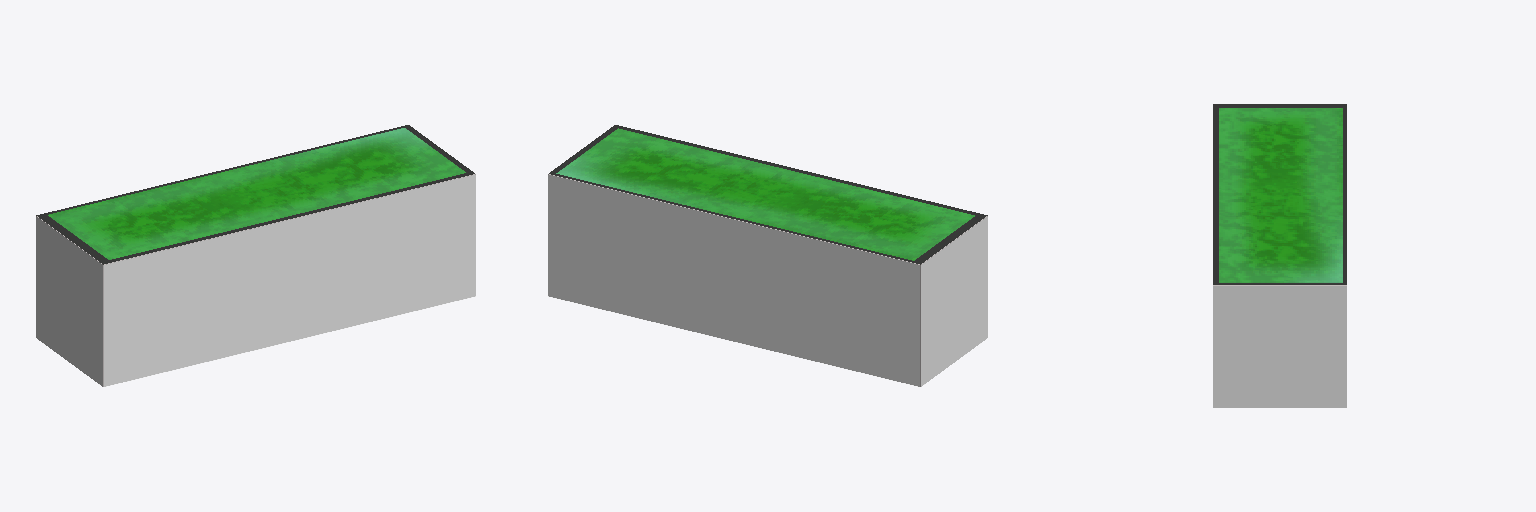
3 renders of one model, left to right at view 1: azimuth 30°, elevation 25°; view 2: azimuth 150°, elevation 25°; view 3: azimuth 270°, elevation 25°, orthographic.
Visible parts, largest first — view 1: Hydroponic5, Hydroponic7, Hydroponic3; view 2: Hydroponic6, Hydroponic7, Hydroponic3; view 3: Hydroponic7, Hydroponic4.
Part boxes in pixels (bbox=[...]): Hydroponic5: bbox=[104, 175, 475, 386]; Hydroponic7: bbox=[36, 125, 474, 264]; Hydroponic3: bbox=[36, 217, 102, 386]; Hydroponic6: bbox=[548, 175, 919, 386]; Hydroponic7: bbox=[549, 125, 987, 264]; Hydroponic3: bbox=[921, 217, 987, 386]; Hydroponic7: bbox=[1213, 104, 1346, 284]; Hydroponic4: bbox=[1213, 286, 1346, 407].
Size of the model in its own units: 16.04 by 5.04 by 5.04.
5 materials, 1 textured.